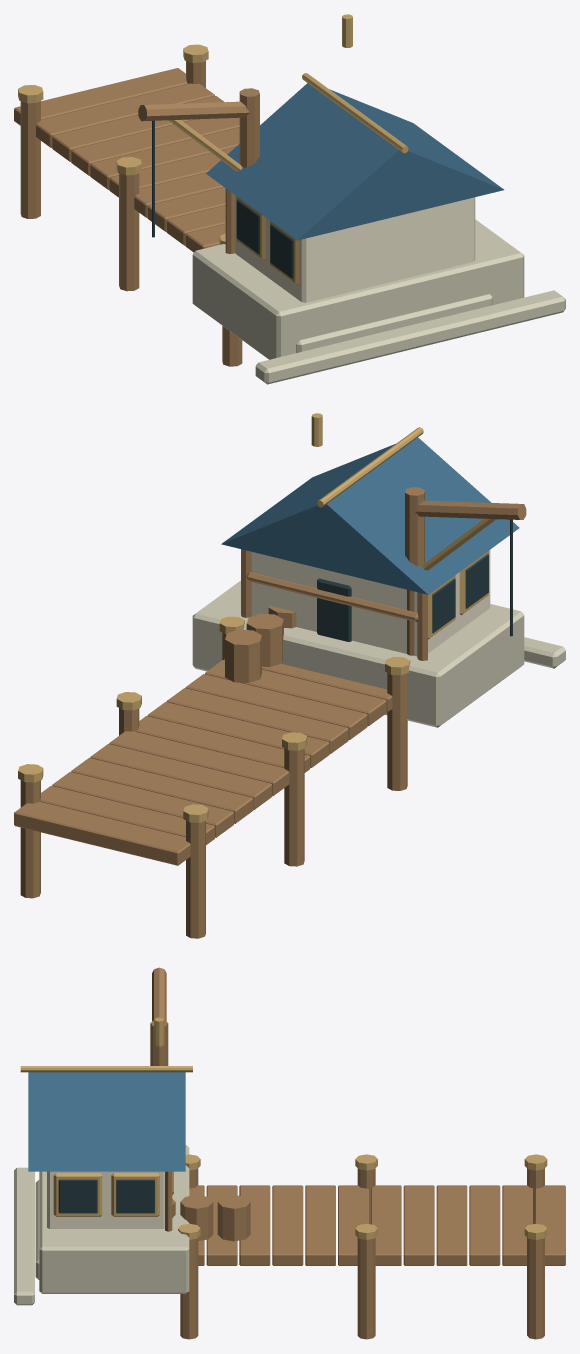
The model's file is level_12.glb.
3 renders of one model, top to bottom at view 1: azimuth 30°, elevation 25°; view 2: azimuth 150°, elevation 25°; view 3: azimuth 270°, elevation 25°, orthographic. The views are drawn at different scales.
Visible parts, largest first — view 1: fishing_wharf — level 12; view 2: fishing_wharf — level 12; view 3: fishing_wharf — level 12.
Part boxes in pixels (bbox=[...]): fishing_wharf — level 12: bbox=[14, 14, 565, 384]; fishing_wharf — level 12: bbox=[14, 413, 565, 938]; fishing_wharf — level 12: bbox=[14, 967, 565, 1339].
Bounding box in the file's own units: 4.53 × 4.24 × 7.37.
